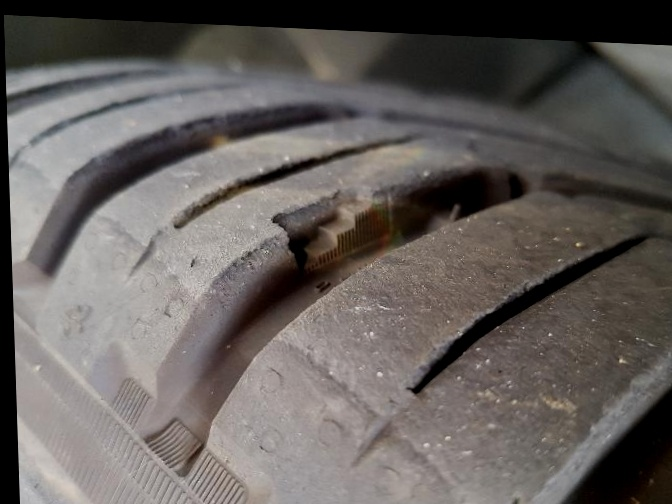temoin:90: (262, 170, 406, 283)
